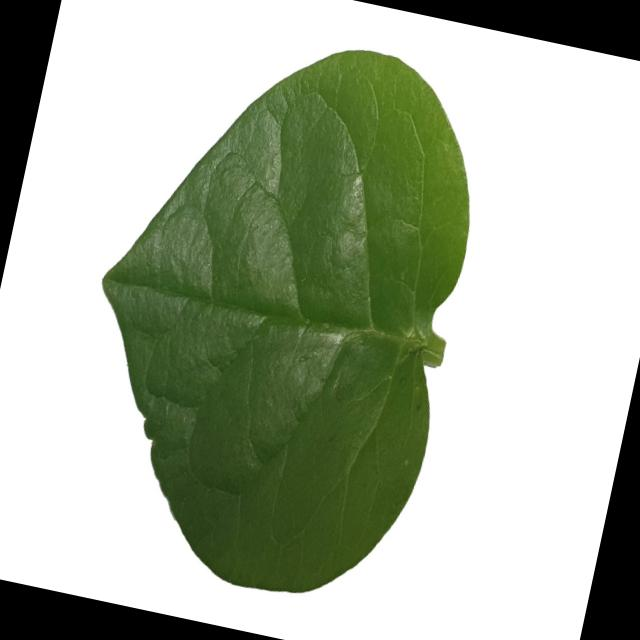Medicinal-Basale: (46, 6, 508, 620)
